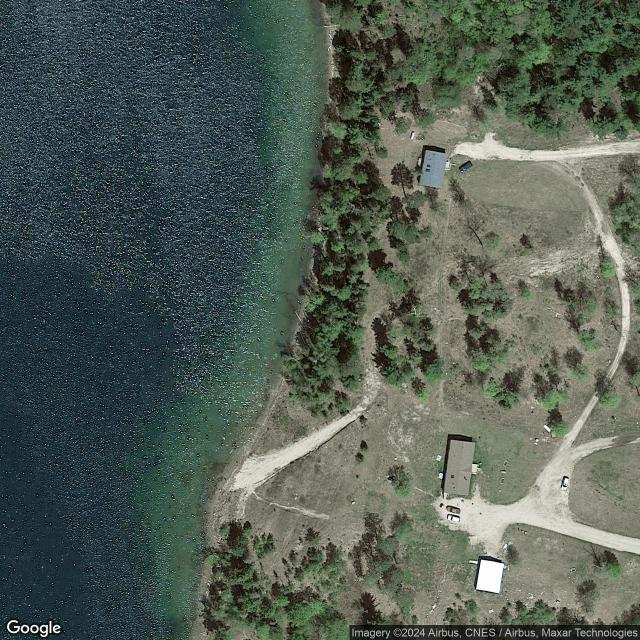Propane: (409, 130, 415, 140)
